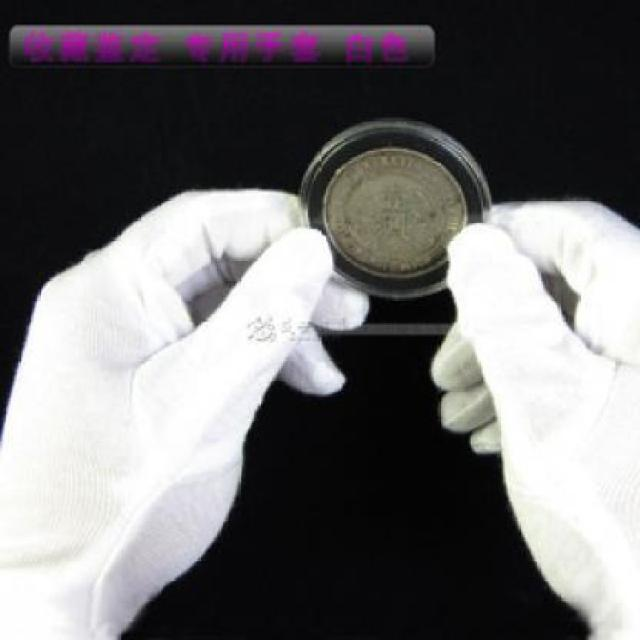hand_glove: (6, 184, 369, 605), (430, 197, 638, 606)
